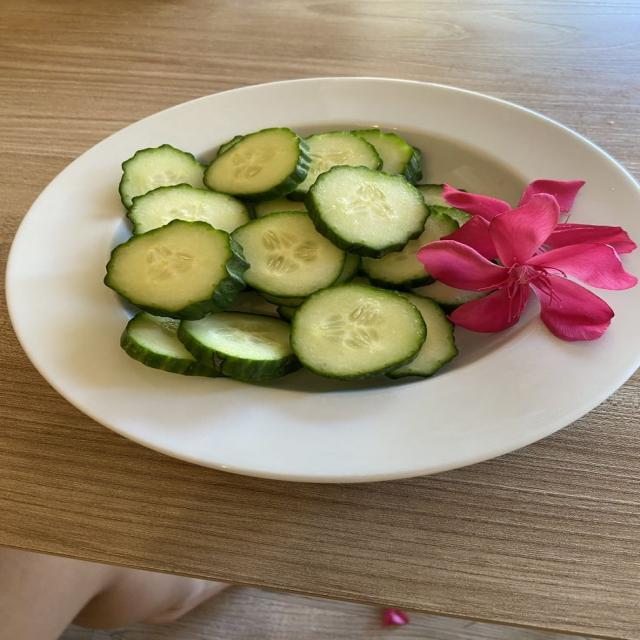cucumber sliced: (105, 220, 247, 319), (292, 284, 426, 379), (306, 166, 427, 257), (233, 212, 345, 297), (178, 312, 299, 380), (361, 209, 458, 289), (205, 128, 310, 200), (120, 312, 220, 377), (289, 132, 382, 199), (127, 184, 250, 234), (387, 293, 458, 378), (120, 145, 205, 208), (353, 129, 421, 183), (416, 184, 471, 225), (414, 281, 488, 311), (254, 198, 306, 217), (429, 206, 472, 226), (334, 254, 360, 284), (416, 184, 448, 206), (260, 293, 306, 308), (260, 293, 306, 307), (217, 136, 243, 155), (276, 306, 296, 322)
